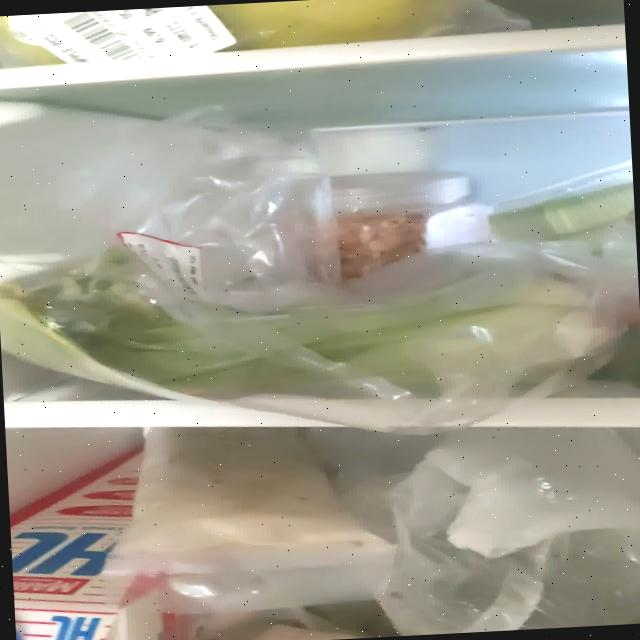pakchoy: (0, 248, 599, 404)
tempeh: (109, 416, 375, 556)
